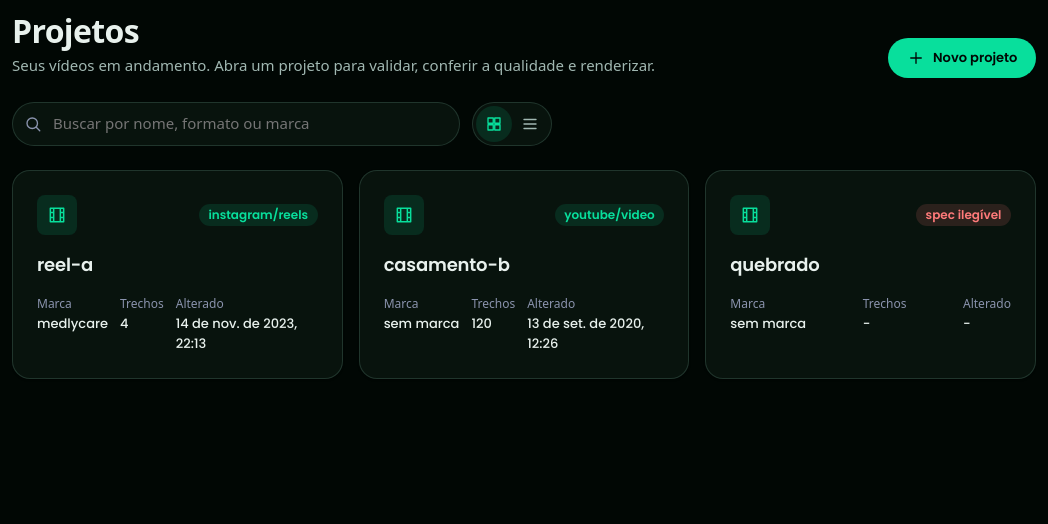
Test: ProjectsView › lista os projetos, filtra pela busca e mostra spec ilegível
The image size is (1048, 524).
Expected: the number of links is 3, [12,170,343,379]; [359,170,689,379]; [705,170,1036,379]
Type "casamento" into the search field with placeholder "Buscar por nome, formato ou marca" at {"x": 236, "y": 124}, box [12,102,460,146]
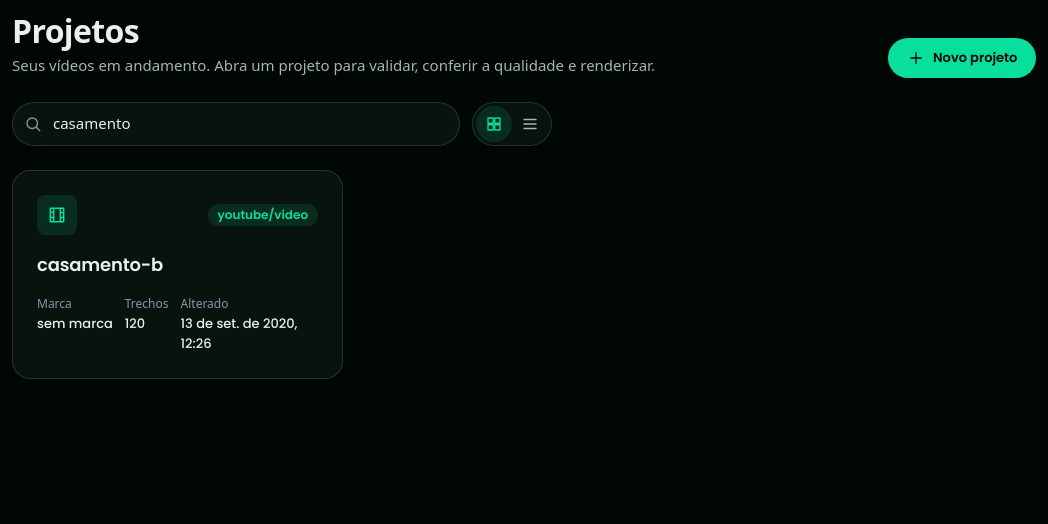
Replace the text in the search field with "zzz" at {"x": 236, "y": 124}, box [12,102,460,146]
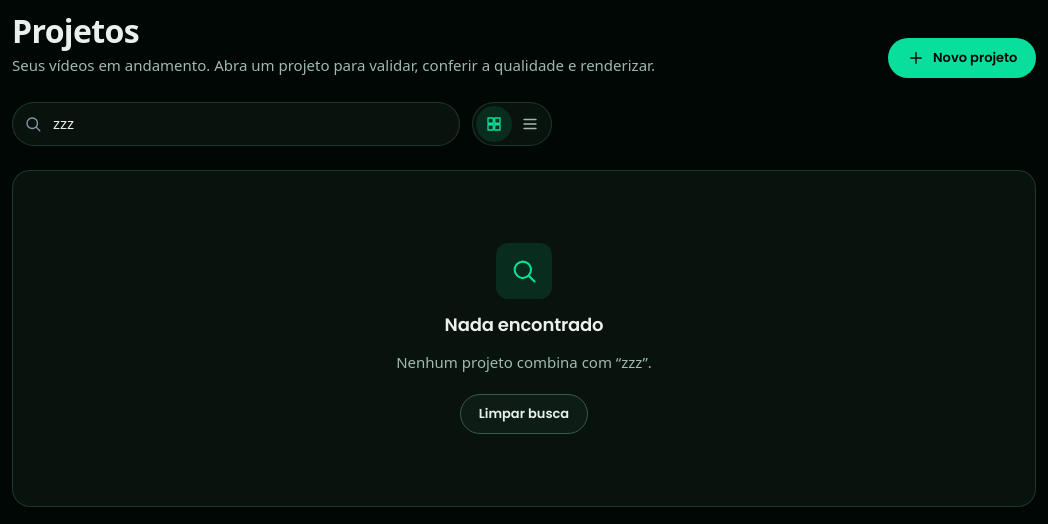
Expected: the text "Nada encontrado" is shown, [445,311,603,339]
